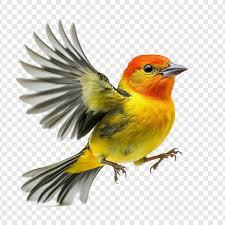non-mango: (15, 19, 188, 206)
